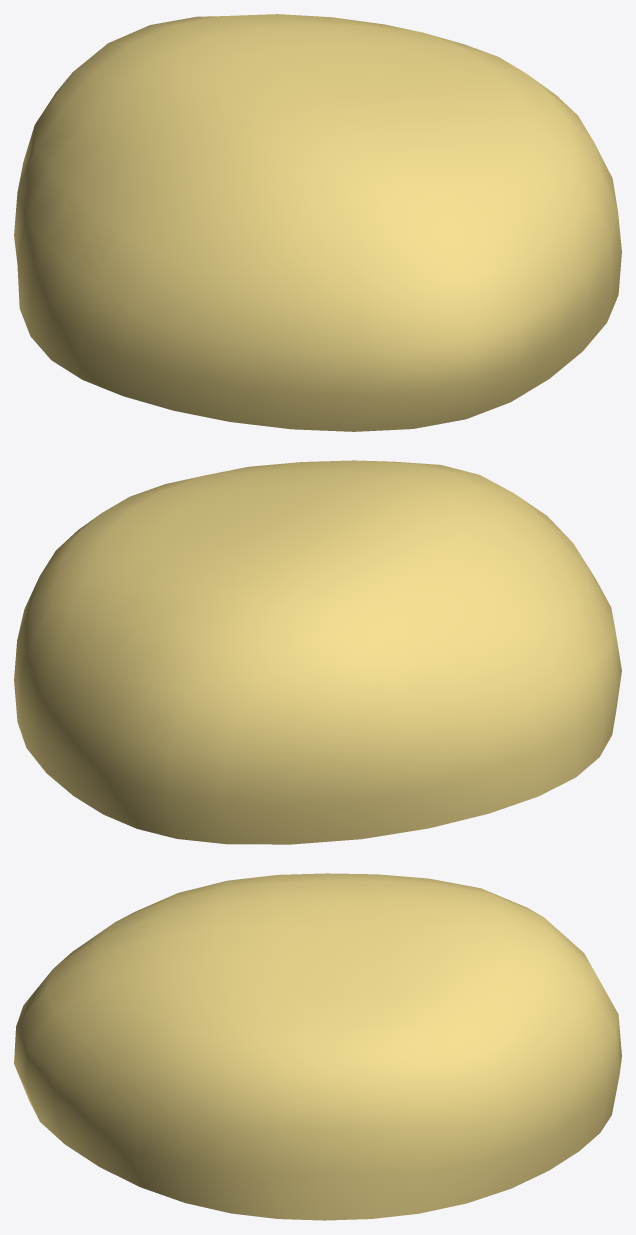
The model's file is adonan.fbx.
3 renders of one model, top to bottom at view 1: azimuth 30°, elevation 25°; view 2: azimuth 150°, elevation 25°; view 3: azimuth 270°, elevation 25°, orthographic. The views are drawn at different scales.
Visible parts, largest first — view 1: adonan; view 2: adonan; view 3: adonan.
Boxes of the visible parts, left/top/right/bottom form: adonan: left=14, top=14, right=621, bottom=431; adonan: left=14, top=460, right=621, bottom=844; adonan: left=14, top=873, right=621, bottom=1220.
Bounding box in the file's own units: 37.27 × 14.53 × 41.81.
